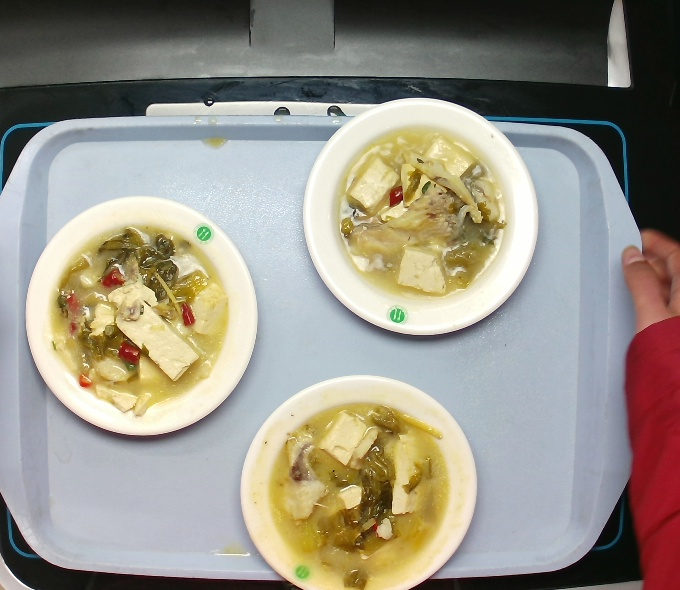wcq-SuanCaiDouFuYu: (37, 214, 239, 423), (255, 385, 458, 589), (326, 128, 515, 299)
